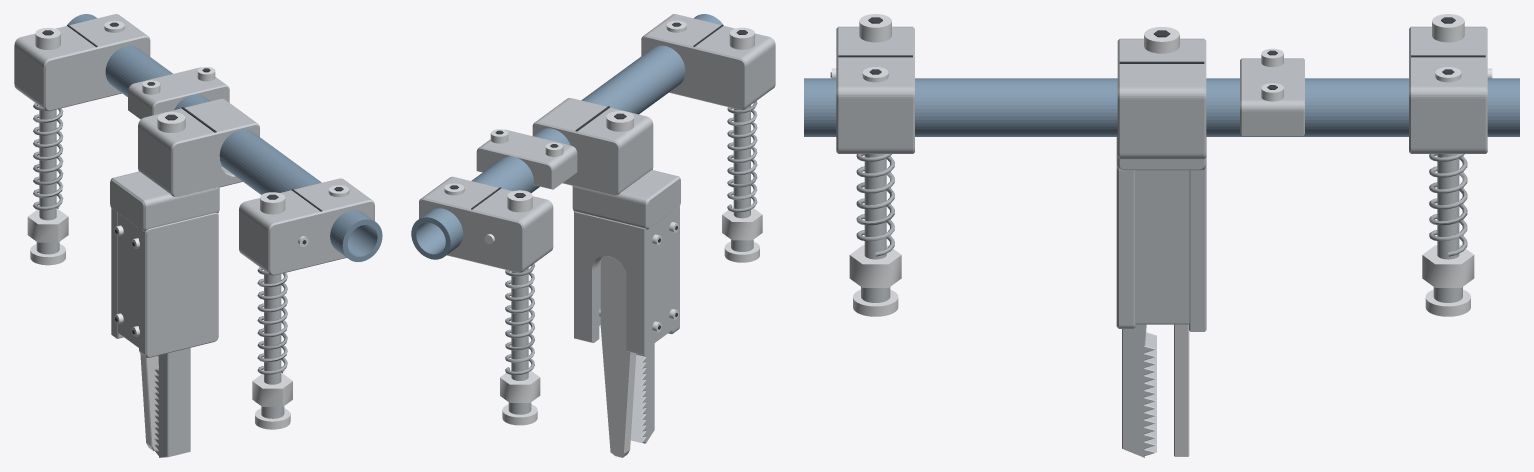
File: acc-eoat.glb
3 renders of one model, left to right at view 1: azimuth 30°, elevation 25°; view 2: azimuth 150°, elevation 25°; view 3: azimuth 270°, elevation 25°, orthographic. The views are drawn at different scales.
Parts seen in each view (by area): view 1: Placa posterior de pinza, Tubo hueco longitudinal, Abrazadera exterior -0.176, Abrazadera exterior 0.176, Bloque central de pinza, Puente de unión al cuerpo de pinza, Mordaza dentada, Silleta superior sobre tubo, Costado soporte 0.027, Muelle -0.176, Muelle 0.176, Vástago de columna -0.176 (+10 smaller); view 2: Tubo hueco longitudinal, Soporte frontal en U, Abrazadera exterior 0.176, Abrazadera exterior -0.176, Bloque central de pinza, Mordaza lisa, Puente de unión al cuerpo de pinza, Silleta superior sobre tubo, Costado soporte 0.027, Mordaza dentada, Muelle 0.176, Muelle -0.176 (+10 smaller); view 3: Tubo hueco longitudinal, Bloque central de pinza, Abrazadera exterior -0.176, Abrazadera exterior 0.176, Costado soporte -0.027, Silleta superior sobre tubo, Mordaza dentada, Placa posterior de pinza, Soporte frontal en U, Mordaza lisa, Vástago de columna 0.176, Vástago de columna -0.176 (+10 smaller).
Part boxes in pixels (bbox=[...]): Placa posterior de pinza: bbox=[139, 213, 218, 357]; Tubo hueco longitudinal: bbox=[67, 14, 382, 262]; Abrazadera exterior -0.176: bbox=[14, 14, 150, 111]; Abrazadera exterior 0.176: bbox=[239, 178, 374, 275]; Bloque central de pinza: bbox=[138, 98, 259, 196]; Puente de unión al cuerpo de pinza: bbox=[110, 171, 219, 231]; Mordaza dentada: bbox=[154, 348, 190, 457]; Silleta superior sobre tubo: bbox=[128, 67, 229, 119]; Costado soporte 0.027: bbox=[118, 213, 138, 347]; Muelle -0.176: bbox=[33, 103, 63, 210]; Muelle 0.176: bbox=[257, 267, 287, 374]; Vástago de columna -0.176: bbox=[39, 106, 56, 220]; Tubo hueco longitudinal: bbox=[411, 14, 722, 259]; Soporte frontal en U: bbox=[574, 211, 651, 355]; Abrazadera exterior 0.176: bbox=[641, 14, 775, 110]; Abrazadera exterior -0.176: bbox=[419, 176, 553, 272]; Bloque central de pinza: bbox=[532, 98, 653, 195]; Mordaza lisa: bbox=[600, 256, 636, 457]; Puente de unión al cuerpo de pinza: bbox=[572, 170, 680, 229]; Silleta superior sobre tubo: bbox=[476, 129, 577, 189]; Costado soporte 0.027: bbox=[652, 211, 672, 344]; Mordaza dentada: bbox=[630, 343, 654, 443]; Muelle 0.176: bbox=[727, 101, 757, 212]; Muelle -0.176: bbox=[505, 263, 534, 375]; Tubo hueco longitudinal: bbox=[804, 78, 1519, 136]; Bloque central de pinza: bbox=[1117, 38, 1206, 159]; Abrazadera exterior -0.176: bbox=[1409, 26, 1487, 153]; Abrazadera exterior 0.176: bbox=[836, 26, 914, 153]; Costado soporte -0.027: bbox=[1135, 170, 1189, 324]; Silleta superior sobre tubo: bbox=[1240, 58, 1304, 135]; Mordaza dentada: bbox=[1122, 324, 1156, 457]; Placa posterior de pinza: bbox=[1116, 137, 1135, 328]; Soporte frontal en U: bbox=[1189, 166, 1206, 331]; Mordaza lisa: bbox=[1174, 324, 1189, 456]; Vástago de columna 0.176: bbox=[864, 154, 886, 259]; Vástago de columna -0.176: bbox=[1437, 154, 1459, 259].
Size of the model in its own units: 0.1241 by 0.294 by 0.44.
